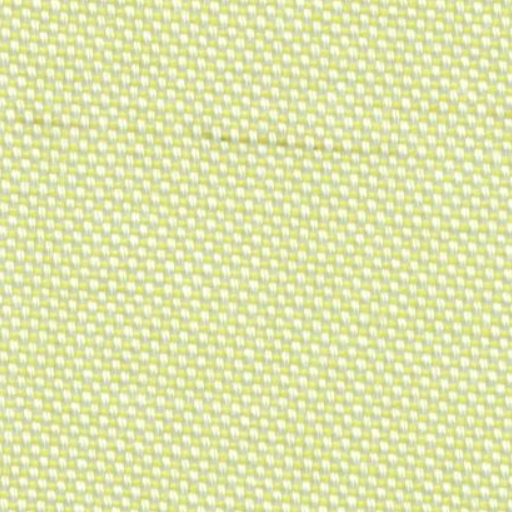WuZi: (201, 116, 349, 166)
